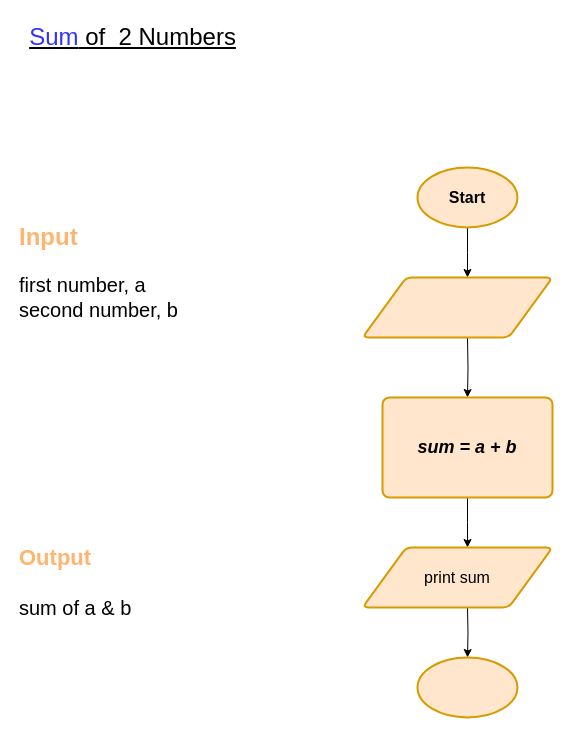
The diagram is 570 pixels wide and 735 high, and some of its shapes have lost their labels. Here are the shapes that lost their labels. From the top down, the box of each, then its label:
(361, 276, 553, 338): input a & b
(416, 656, 518, 718): Exit
